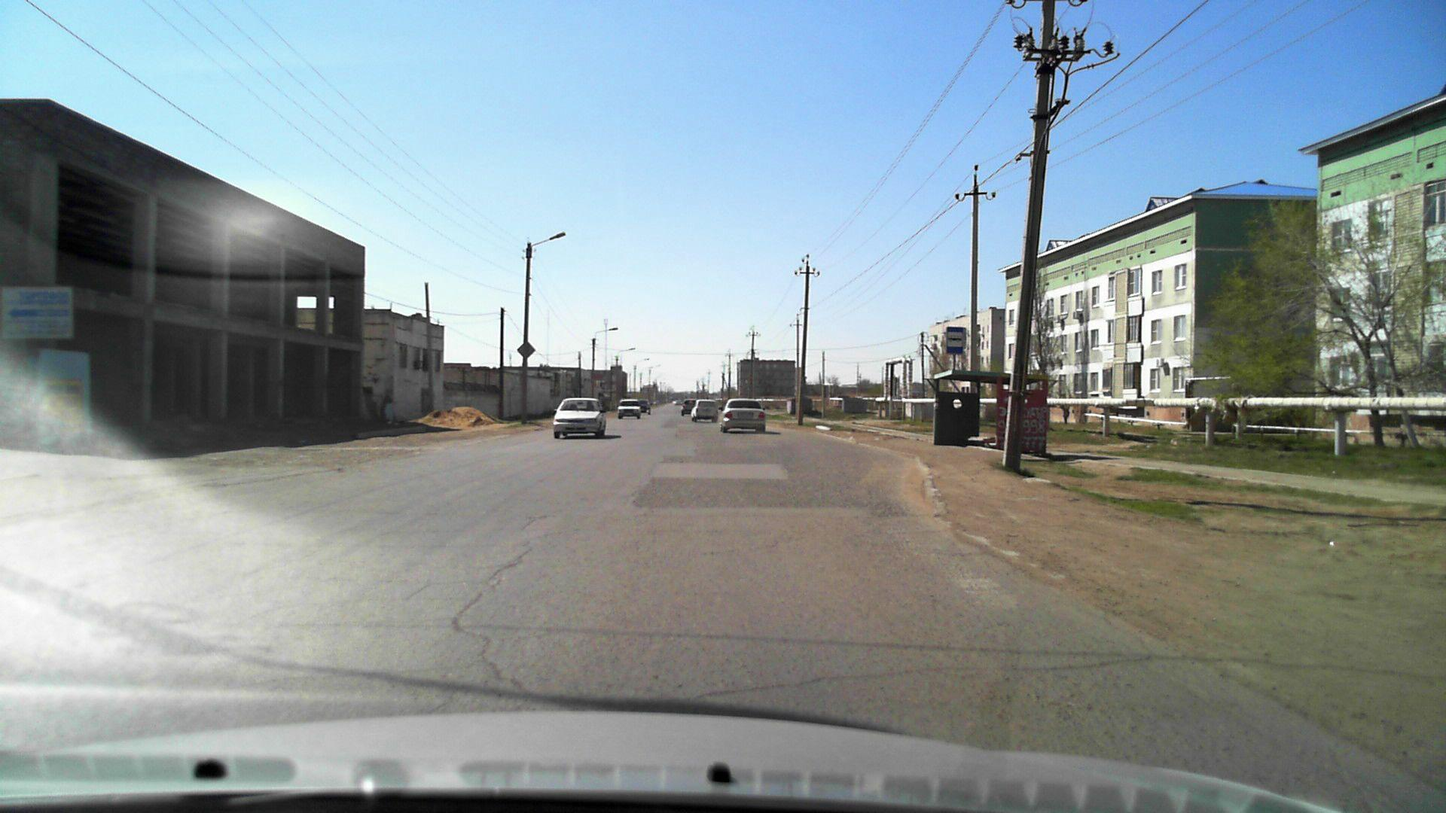road_sign: (945, 326, 966, 355)
